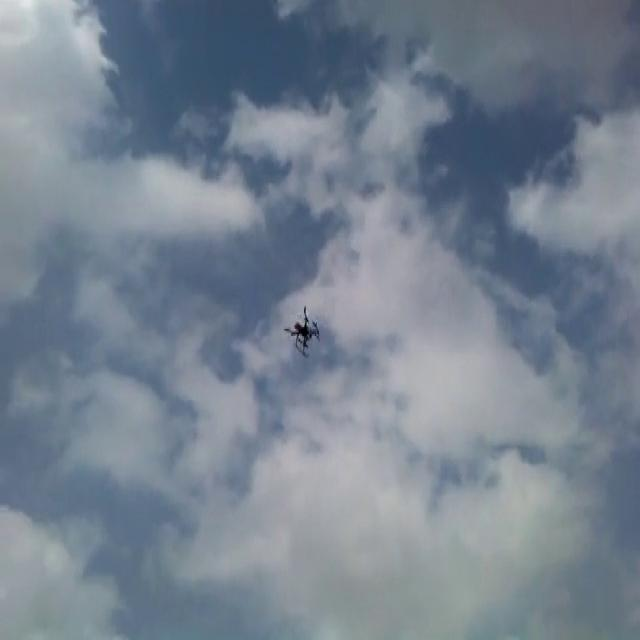drone: (283, 300, 322, 358)
